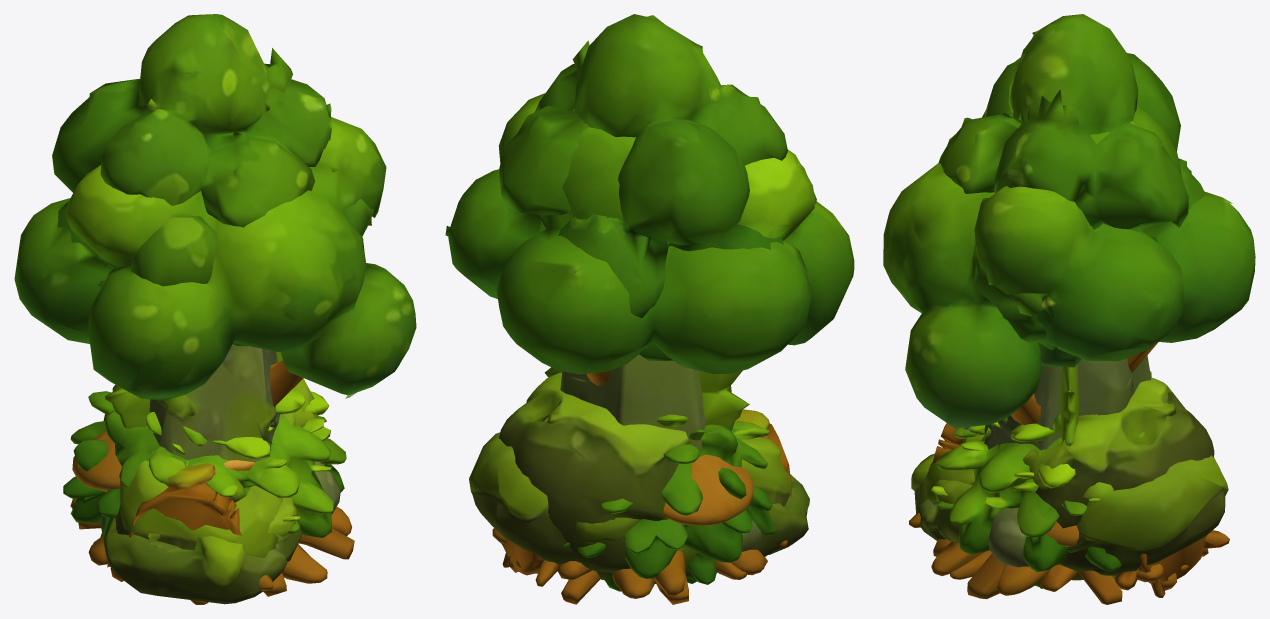
File: floresta-2.glb
The picture shows the model from 3 angles, left to right: view 1: azimuth 30°, elevation 25°; view 2: azimuth 150°, elevation 25°; view 3: azimuth 270°, elevation 25°; orthographic projection.
Visible parts, largest first — view 1: arvore_raizes, arvore_redonda, moita, pedra_achatada, menir, pedra_musgo, tronco, toco_b, cogumelos, muda_folha, pedras_grupo; view 2: arvore_raizes, arvore_redonda, pedra_musgo, moita, pedra_achatada, menir, cogumelos, toco_b, tronco, muda_folha, toco_a; view 3: arvore_raizes, arvore_redonda, pedra_musgo, pedra_achatada, moita, menir, tronco, toco_b, pedras_grupo, muda_folha, toco_a, cogumelos.
Part boxes in pixels (<box>): arvore_raizes: <box>14,117,416,596</box>; arvore_redonda: <box>52,14,373,346</box>; moita: <box>63,389,346,538</box>; pedra_achatada: <box>103,497,301,604</box>; menir: <box>149,344,280,462</box>; pedra_musgo: <box>103,378,318,558</box>; tronco: <box>107,463,273,590</box>; toco_b: <box>70,460,351,604</box>; cogumelos: <box>72,430,324,491</box>; muda_folha: <box>105,351,282,428</box>; pedras_grupo: <box>100,461,340,536</box>; arvore_raizes: <box>445,93,854,604</box>; arvore_redonda: <box>499,14,816,360</box>; pedra_musgo: <box>498,372,792,572</box>; moita: <box>542,414,775,591</box>; pedra_achatada: <box>469,432,809,564</box>; menir: <box>560,355,731,558</box>; cogumelos: <box>663,454,754,525</box>; toco_b: <box>492,528,765,595</box>; tronco: <box>502,409,791,586</box>; muda_folha: <box>544,367,749,430</box>; toco_a: <box>516,560,746,598</box>; arvore_raizes: <box>883,106,1255,604</box>; arvore_redonda: <box>938,14,1205,367</box>; pedra_musgo: <box>924,377,1214,572</box>; pedra_achatada: <box>911,453,1228,575</box>; moita: <box>931,371,1151,588</box>; menir: <box>984,355,1150,450</box>; tronco: <box>909,423,1229,597</box>; toco_b: <box>931,541,1163,595</box>; pedras_grupo: <box>988,507,1057,567</box>; muda_folha: <box>1060,364,1078,445</box>; toco_a: <box>950,550,1188,591</box>; cogumelos: <box>1046,521,1078,546</box>.
Size of the model in its own units: 0.331 by 0.4995 by 0.314.
Materials: 1 (1 with a texture image).
